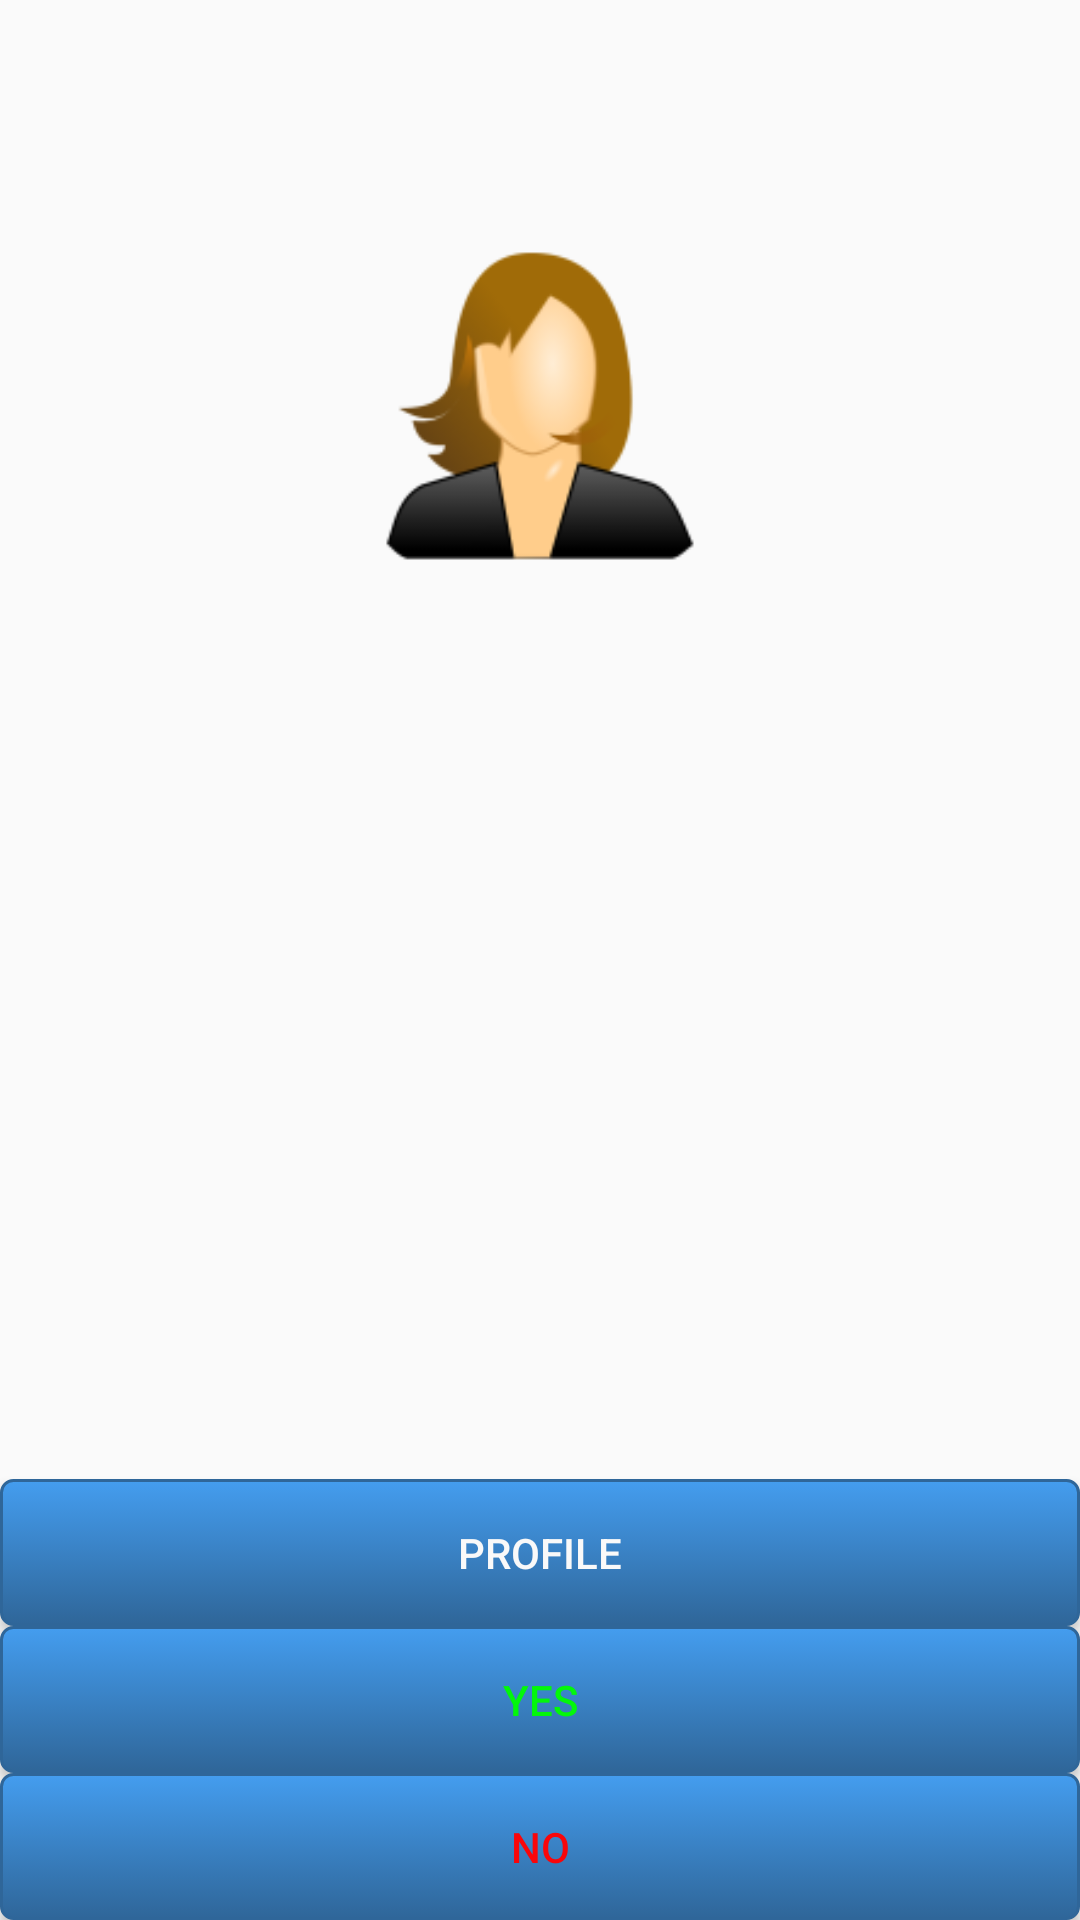

Named icons in this screenshot (1080 × 1920) and their centers, point (x, y):
profil: point (540, 406)
